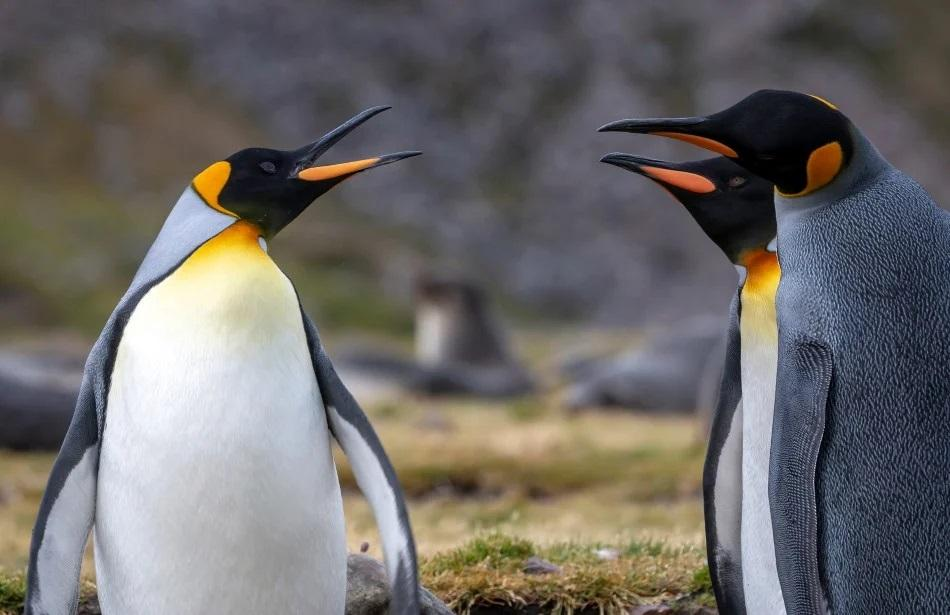king: (45, 92, 433, 615)
